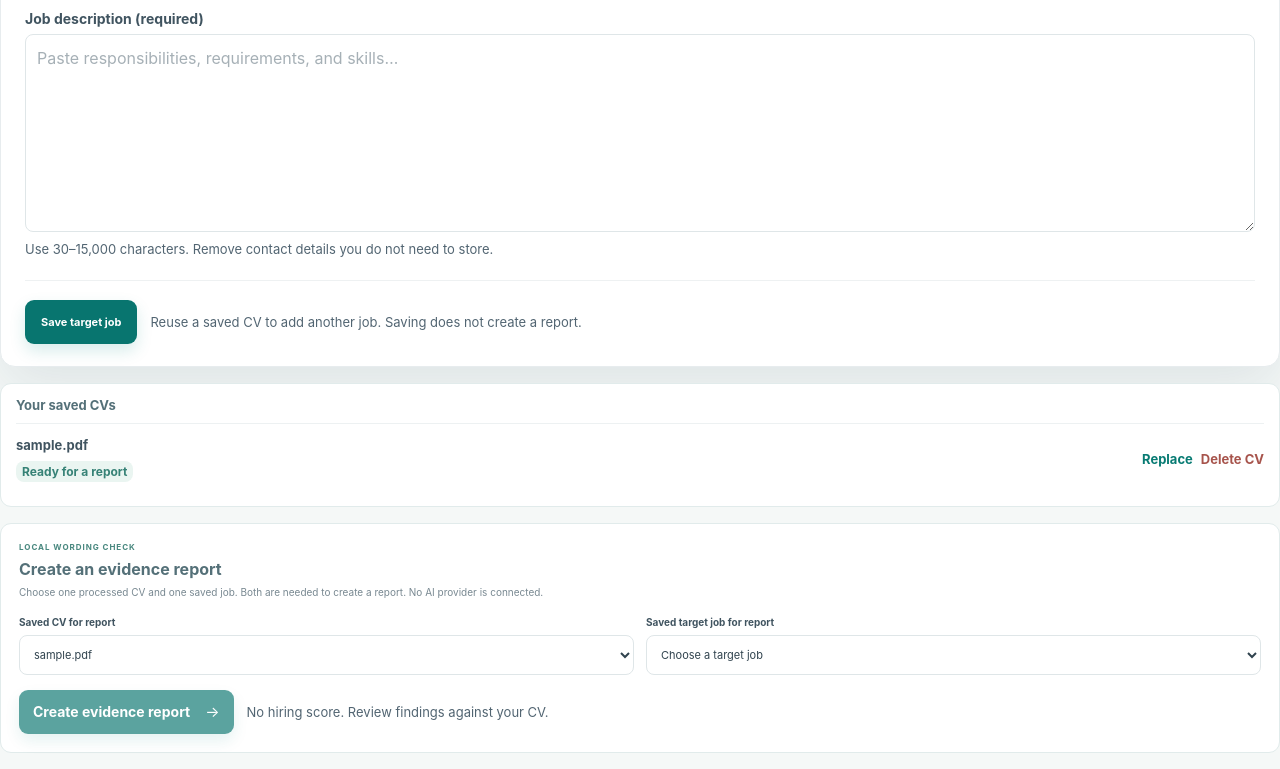
Test: Assessment interactions › returns focus to the persistent CV heading after confirmed deletion
(page scrolled)
Click the button with aria-label "Delete CV sample.pdf" at (1232, 459), box [1201,437,1264,481]
(page scrolled)
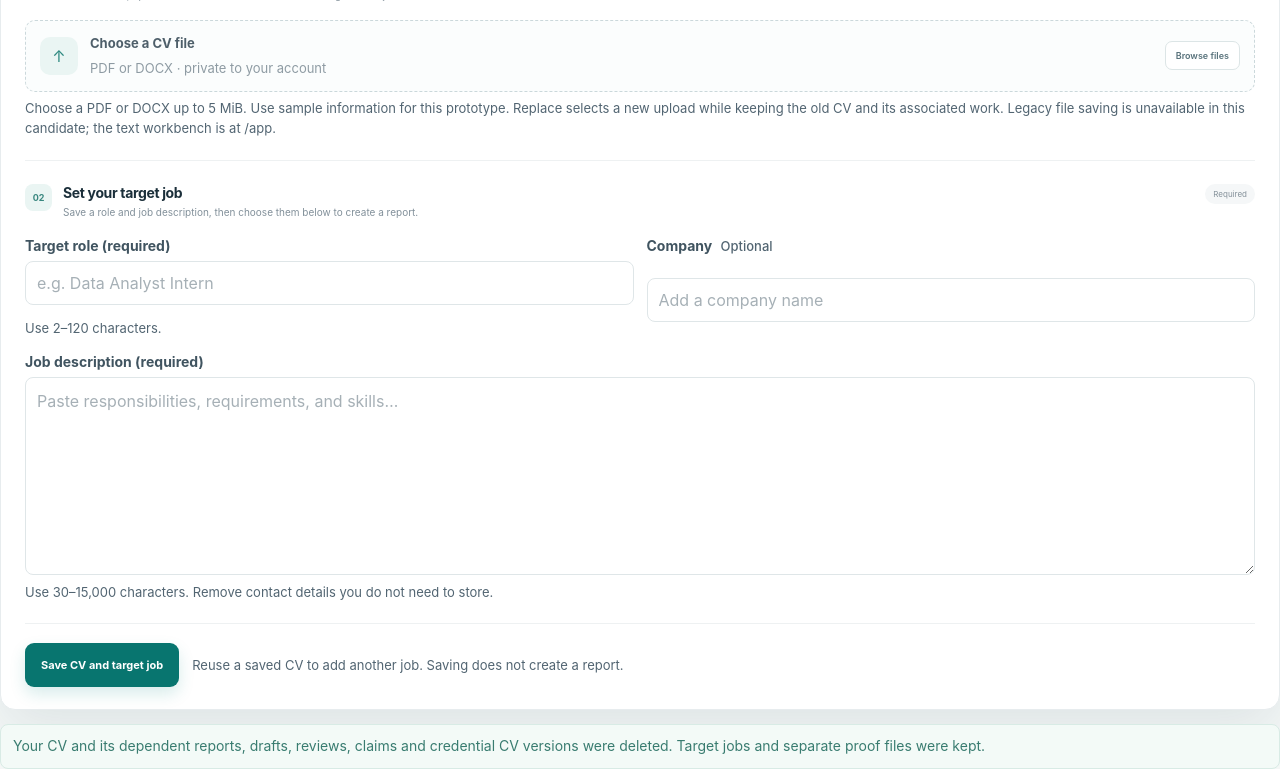
Check: the text "Your CV and its dependent reports, drafts, reviews, claims and credential CV versions were deleted. Target jobs and sepa" is shown, box [13,737,985,754]
